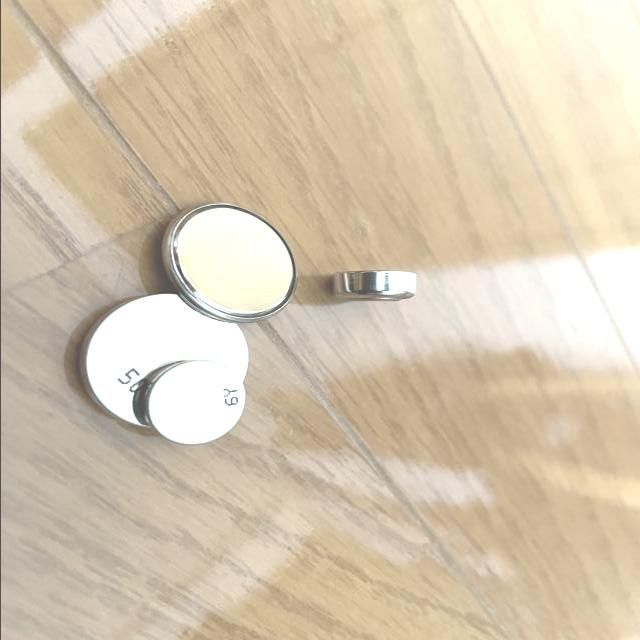COIN: (76, 293, 249, 432), (157, 199, 296, 324), (139, 358, 247, 444), (328, 267, 424, 305)
